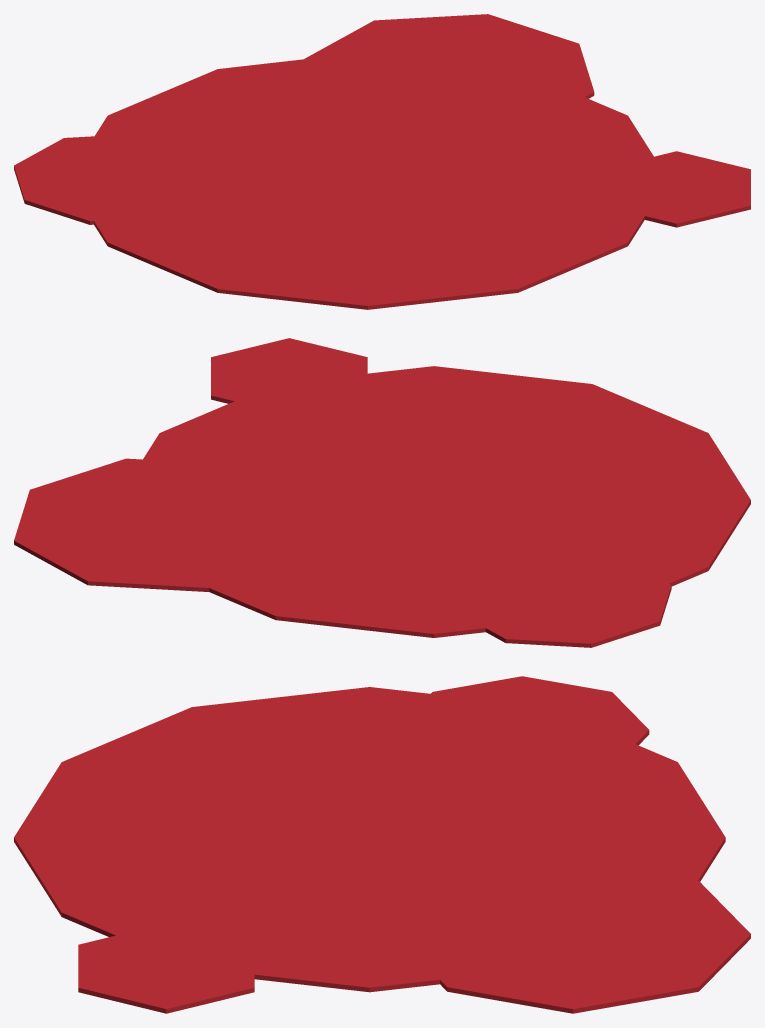
The model's file is haunted_bloodpuddle.glb.
3 renders of one model, top to bottom at view 1: azimuth 30°, elevation 25°; view 2: azimuth 150°, elevation 25°; view 3: azimuth 270°, elevation 25°, orthographic. The views are drawn at different scales.
Parts seen in each view (by area): view 1: Haunted_BloodPuddle; view 2: Haunted_BloodPuddle; view 3: Haunted_BloodPuddle.
Part boxes in pixels (x1,y1,x2,y2): Haunted_BloodPuddle: (14,14,750,309); Haunted_BloodPuddle: (14,338,750,647); Haunted_BloodPuddle: (14,676,750,1013).
Size of the model in its own units: 1.55 by 0.01 by 1.45.
